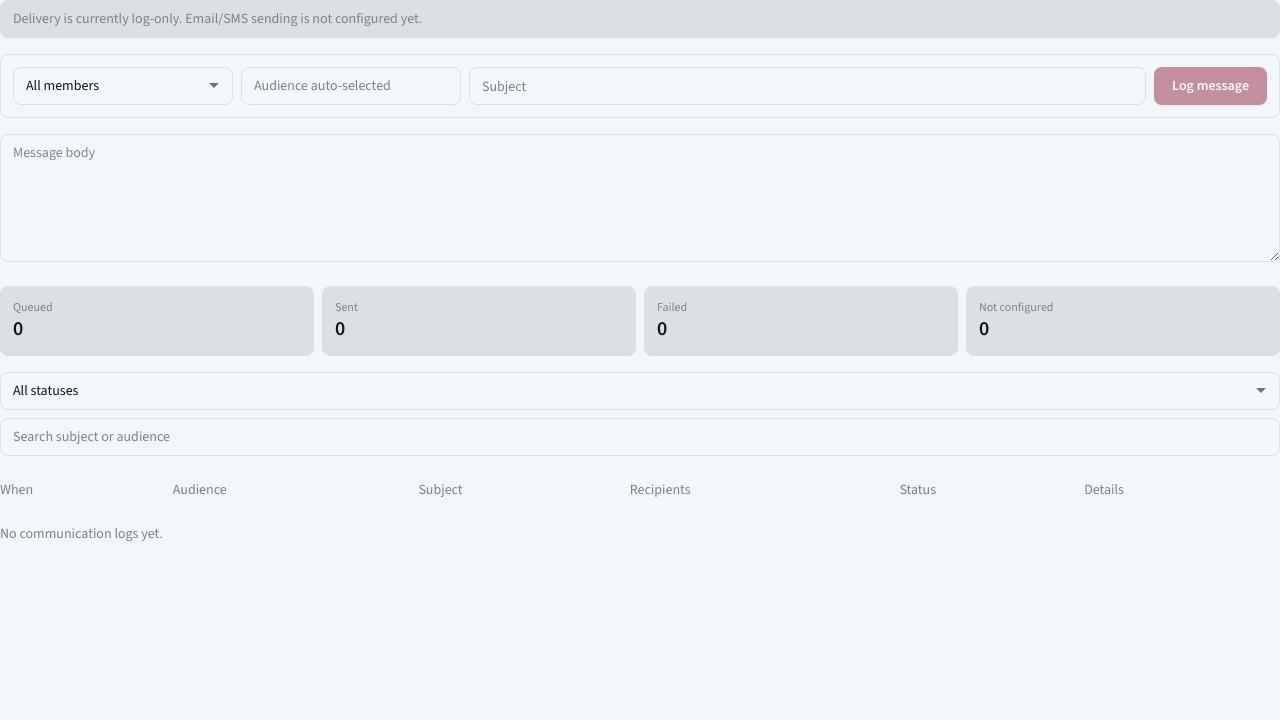
it: specific communication recipients › opens a labeled dialog, focuses search, and lists only distinct enrolled students
Step 1. Type "Hello" into the field with placeholder "Subject" → (808, 86), box x1=469 y1=67 x2=1146 y2=105
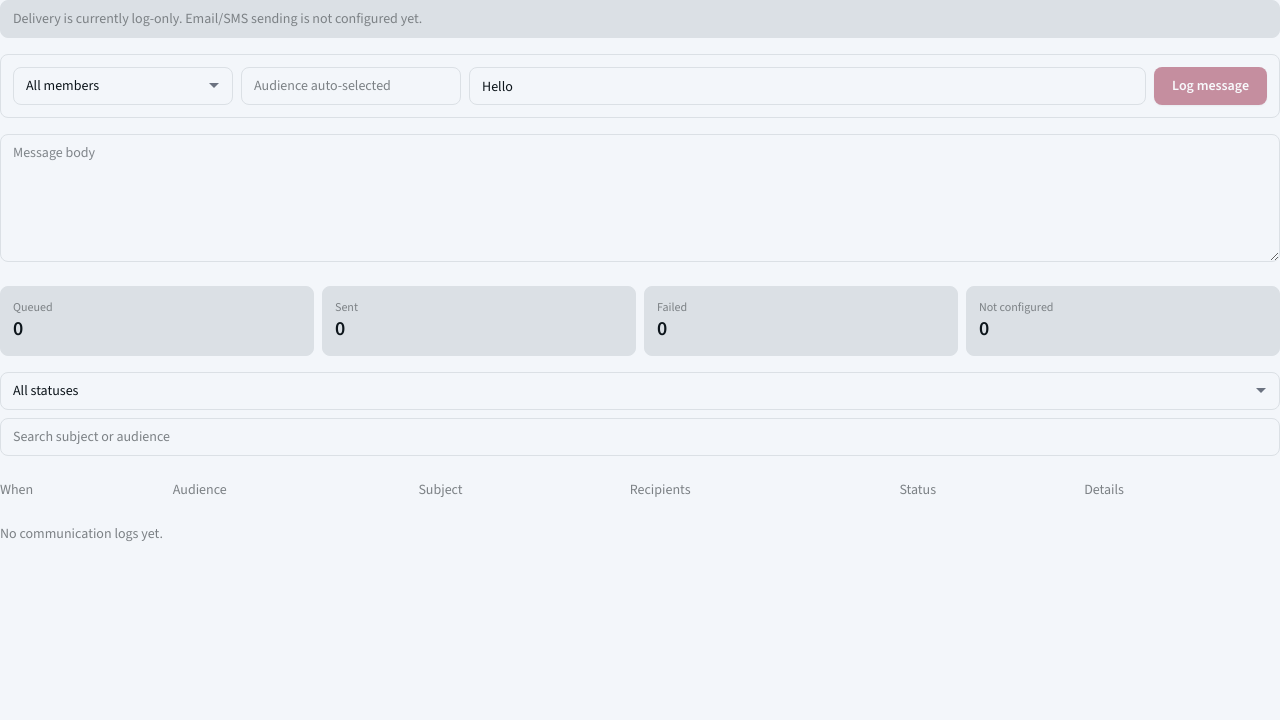
Step 2. Type "Course reminder" into the text box with placeholder "Message body" → (640, 198), box x1=0 y1=134 x2=1279 y2=262
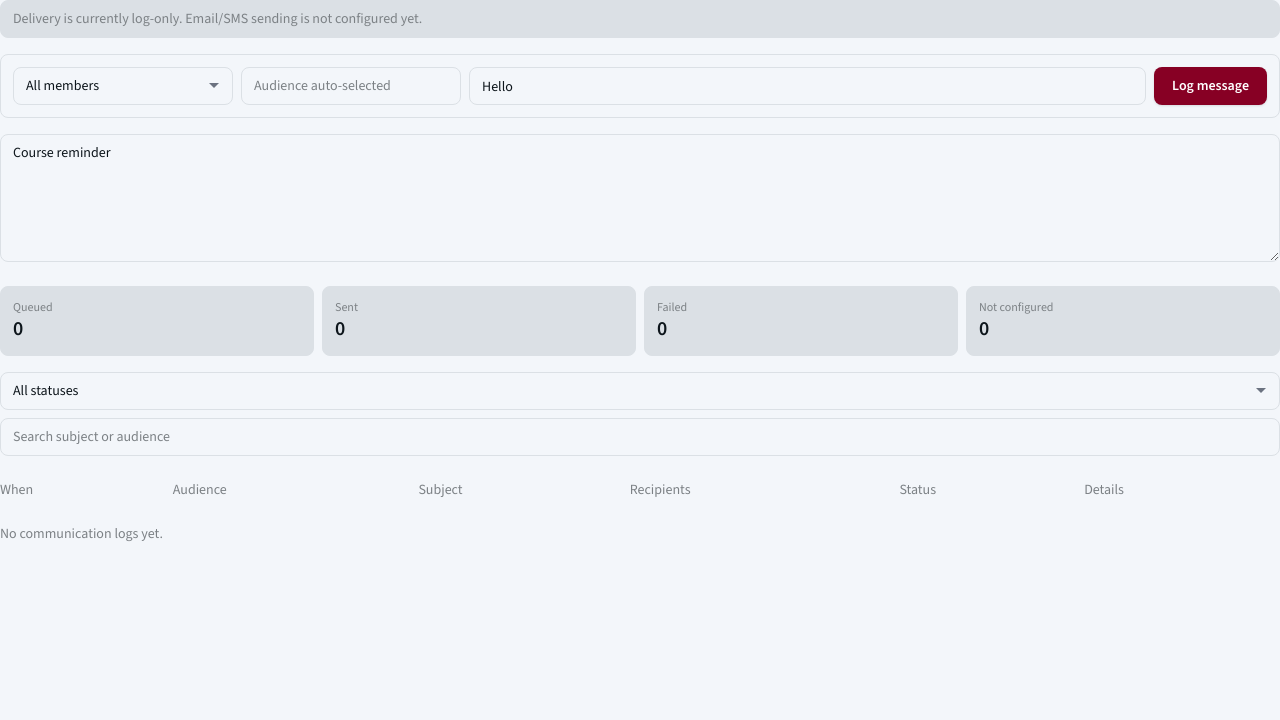
Step 3. Select "Specific recipients" in the dropdown named "Recipients" → (123, 86), box x1=13 y1=67 x2=233 y2=105
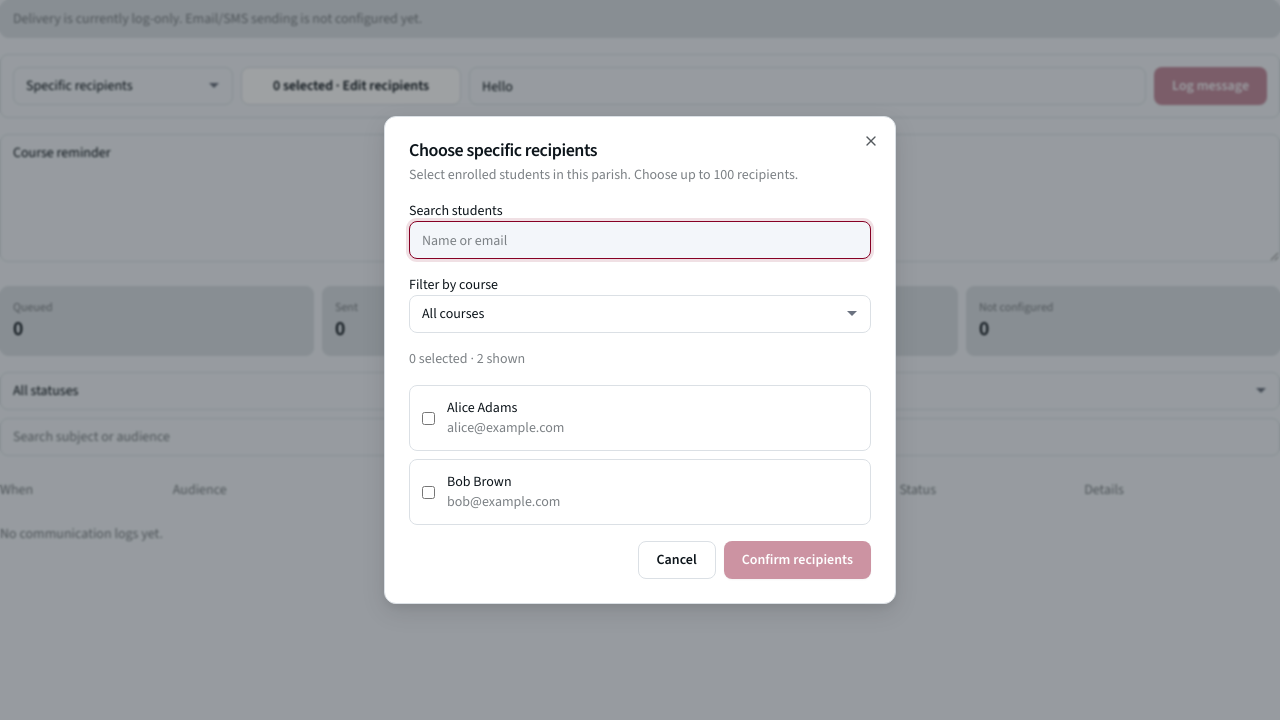
Expected: the number of checkboxes is 2, x1=422 y1=412 x2=435 y2=424; x1=422 y1=486 x2=435 y2=498
Expected: the message reads "0 selected · 2 shown", x1=409 y1=349 x2=525 y2=368
Expected: the button "Confirm recipients" is disabled, x1=724 y1=541 x2=871 y2=579
